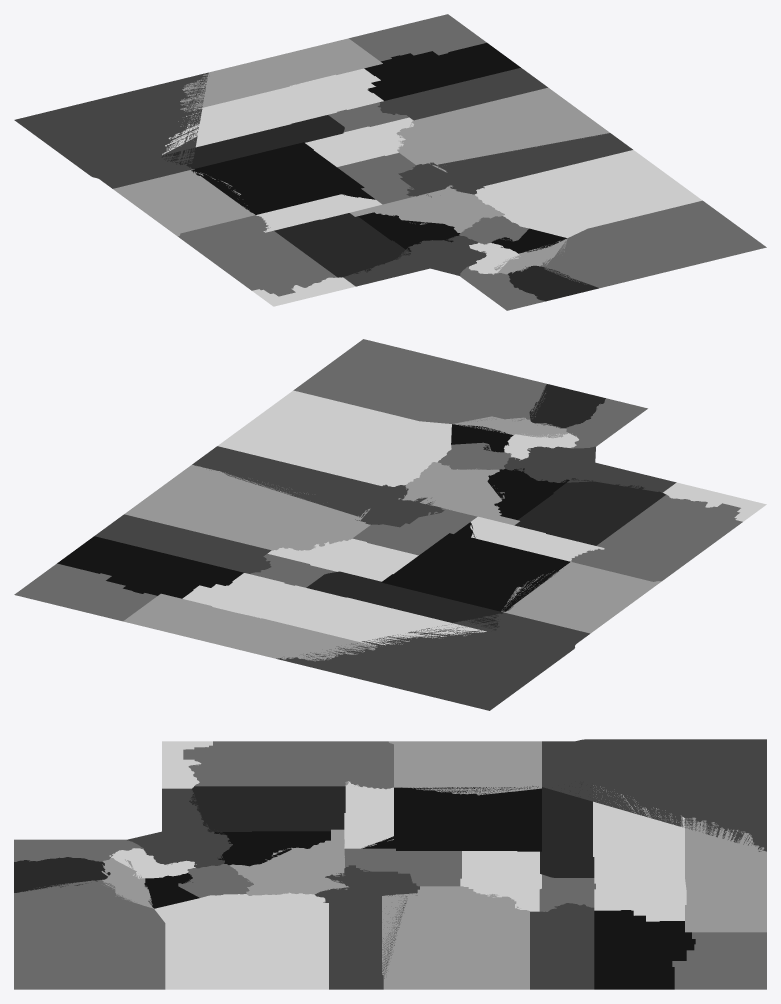
File: Utah_Counties_2D.fbx
The picture shows the model from 3 angles, top to bottom: view 1: azimuth 30°, elevation 25°; view 2: azimuth 150°, elevation 25°; view 3: azimuth 270°, elevation 25°; orthographic projection. The views are drawn at different scales.
Visible parts, largest first — view 1: UT_San_Juan_County_2D, UT_Tooele_County_2D, UT_Box_Elder_County_2D, UT_Millard_County_2D, UT_Garfield_County_2D, UT_Emery_County_2D, UT_Uintah_County_2D, UT_Kane_County_2D, UT_Juab_County_2D, UT_Grand_County_2D, UT_Iron_County_2D, UT_Duchesne_County_2D (+17 smaller); view 2: UT_San_Juan_County_2D, UT_Tooele_County_2D, UT_Box_Elder_County_2D, UT_Millard_County_2D, UT_Garfield_County_2D, UT_Emery_County_2D, UT_Uintah_County_2D, UT_Kane_County_2D, UT_Juab_County_2D, UT_Grand_County_2D, UT_Iron_County_2D, UT_Duchesne_County_2D (+17 smaller); view 3: UT_San_Juan_County_2D, UT_Tooele_County_2D, UT_Box_Elder_County_2D, UT_Millard_County_2D, UT_Garfield_County_2D, UT_Emery_County_2D, UT_Uintah_County_2D, UT_Kane_County_2D, UT_Grand_County_2D, UT_Juab_County_2D, UT_Duchesne_County_2D, UT_Iron_County_2D (+17 smaller).
Part boxes in pixels (x1,y1,x2,y2): UT_San_Juan_County_2D: (14, 72, 208, 188); UT_Tooele_County_2D: (474, 150, 702, 237); UT_Box_Elder_County_2D: (540, 200, 766, 288); UT_Millard_County_2D: (396, 87, 609, 172); UT_Garfield_County_2D: (162, 68, 383, 154); UT_Emery_County_2D: (191, 142, 375, 214); UT_Uintah_County_2D: (178, 215, 337, 296); UT_Kane_County_2D: (180, 38, 382, 111); UT_Juab_County_2D: (398, 133, 632, 197); UT_Grand_County_2D: (113, 169, 255, 236); UT_Iron_County_2D: (364, 43, 520, 100); UT_Duchesne_County_2D: (274, 213, 410, 277); UT_San_Juan_County_2D: (276, 612, 589, 710); UT_Tooele_County_2D: (218, 390, 451, 486); UT_Box_Elder_County_2D: (293, 339, 546, 423); UT_Millard_County_2D: (124, 464, 370, 550); UT_Garfield_County_2D: (182, 573, 486, 645); UT_Emery_County_2D: (381, 522, 570, 611); UT_Uintah_County_2D: (571, 494, 742, 581); UT_Kane_County_2D: (123, 593, 377, 661); UT_Juab_County_2D: (192, 446, 444, 527); UT_Grand_County_2D: (501, 562, 661, 633); UT_Iron_County_2D: (57, 536, 243, 598); UT_Duchesne_County_2D: (514, 478, 665, 545); UT_San_Juan_County_2D: (542, 739, 766, 851); UT_Tooele_County_2D: (154, 892, 328, 989); UT_Box_Elder_County_2D: (14, 880, 165, 989); UT_Millard_County_2D: (382, 886, 529, 989); UT_Garfield_County_2D: (593, 785, 686, 921); UT_Emery_County_2D: (361, 786, 541, 851); UT_Uintah_County_2D: (183, 741, 393, 789); UT_Kane_County_2D: (685, 817, 766, 932); UT_Grand_County_2D: (388, 741, 541, 795); UT_Juab_County_2D: (314, 865, 419, 989); UT_Duchesne_County_2D: (189, 786, 345, 832); UT_Iron_County_2D: (594, 910, 695, 989).
Bounding box in the file's own units: 554 × 0 × 705.
